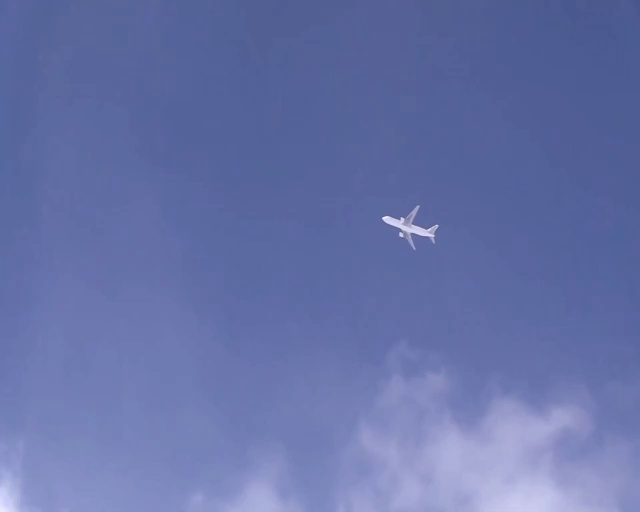AIRPLANE: (380, 204, 439, 249)
